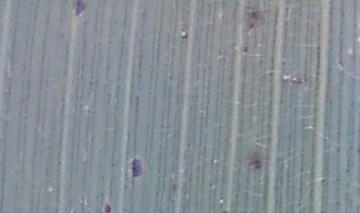tarspot: (129, 156, 144, 179), (248, 10, 259, 30), (74, 1, 86, 17), (179, 28, 190, 40), (252, 157, 262, 169), (133, 93, 141, 107), (102, 201, 111, 213), (318, 176, 326, 184), (242, 44, 249, 53), (280, 59, 286, 68), (257, 57, 263, 64), (271, 37, 276, 45)
